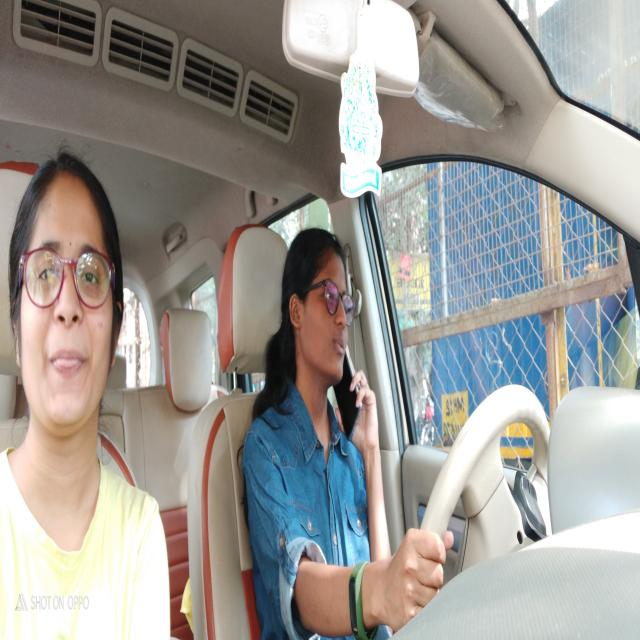mobile: (337, 355, 375, 448)
person: (7, 138, 134, 466), (276, 219, 369, 469)
